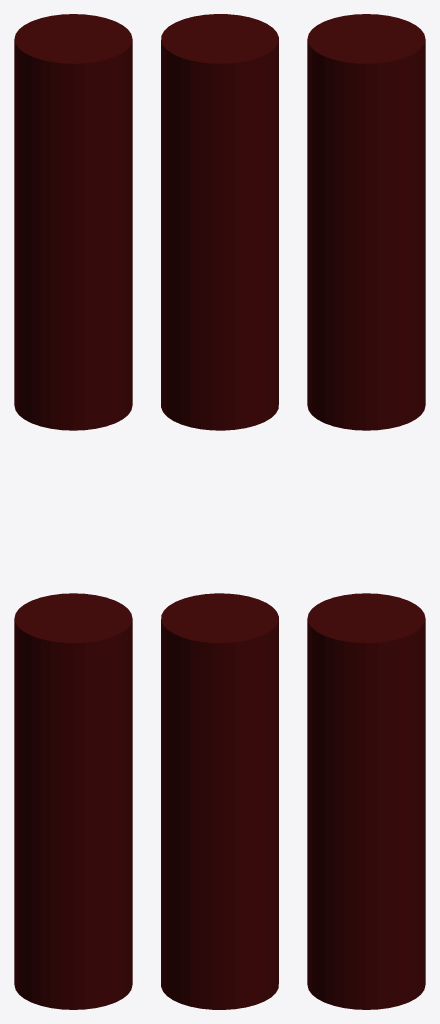
Rendered from HOLD.obj.
The picture shows the model from 3 angles, left to right: view 1: azimuth 90°, elevation 25°; view 2: azimuth 150°, elevation 25°; view 3: azimuth 270°, elevation 25°; orthographic projection.
Parts seen in each view (by area): view 1: Hold2, HOLD1; view 2: Hold2, HOLD1; view 3: Hold2, HOLD1.
Part boxes in pixels (x1,y1,x2,y2): Hold2: [14, 593, 132, 1009]; HOLD1: [14, 14, 132, 430]; Hold2: [161, 593, 278, 1009]; HOLD1: [161, 14, 278, 430]; Hold2: [307, 593, 425, 1009]; HOLD1: [307, 14, 425, 430].
Size of the model in its own units: 0.3708 by 3.28 by 0.3708.
